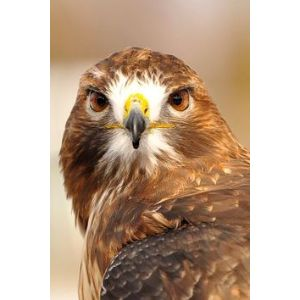hawk: (58, 38, 249, 299)
